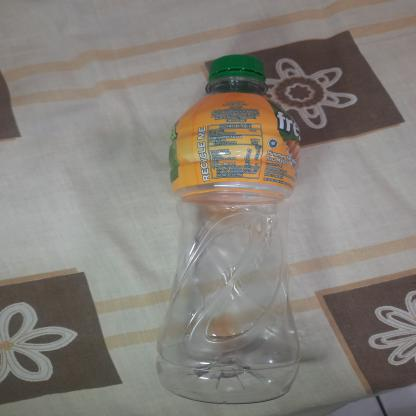plastic: (157, 54, 308, 408)
